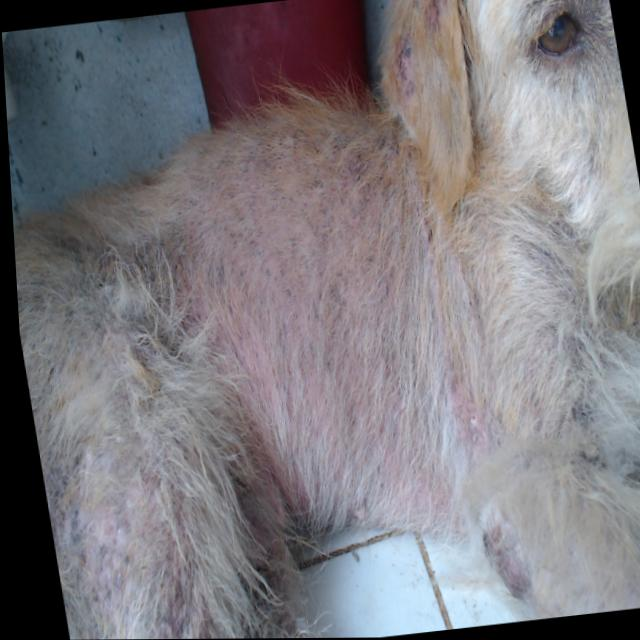demodicosis: (198, 169, 414, 442), (56, 489, 192, 640), (464, 526, 521, 591), (436, 373, 481, 448), (425, 0, 451, 46), (387, 56, 417, 91)
